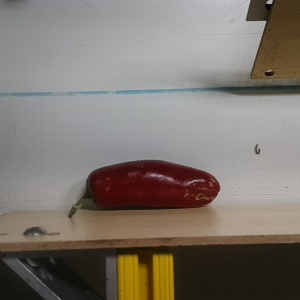Cut Point: (78, 168, 108, 212)
